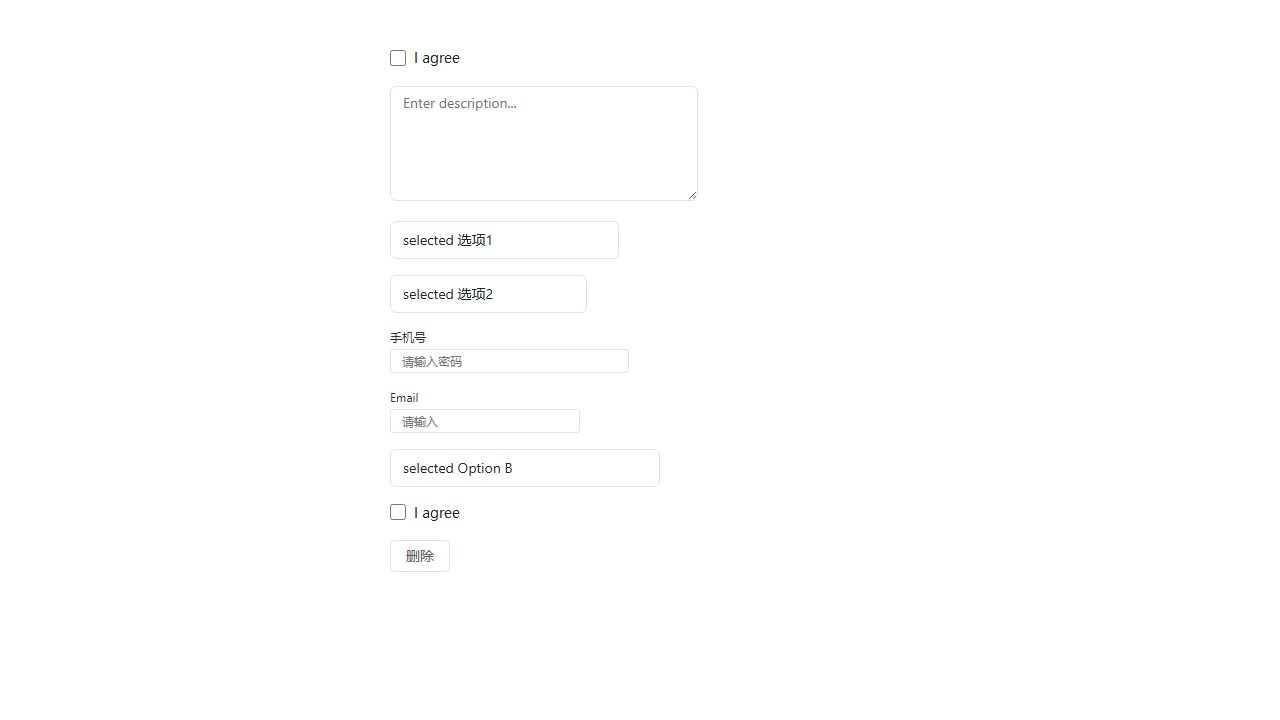button: (390, 540, 450, 572)
checkbox: (390, 504, 406, 520), (390, 50, 406, 65)
icon: (414, 48, 460, 67), (414, 502, 460, 521)
input: (390, 348, 629, 372), (390, 409, 580, 433)
radio: (390, 48, 460, 67), (390, 502, 460, 521)
select: (390, 449, 660, 487), (390, 221, 619, 259), (390, 274, 587, 313)
textarea: (390, 86, 698, 200)
